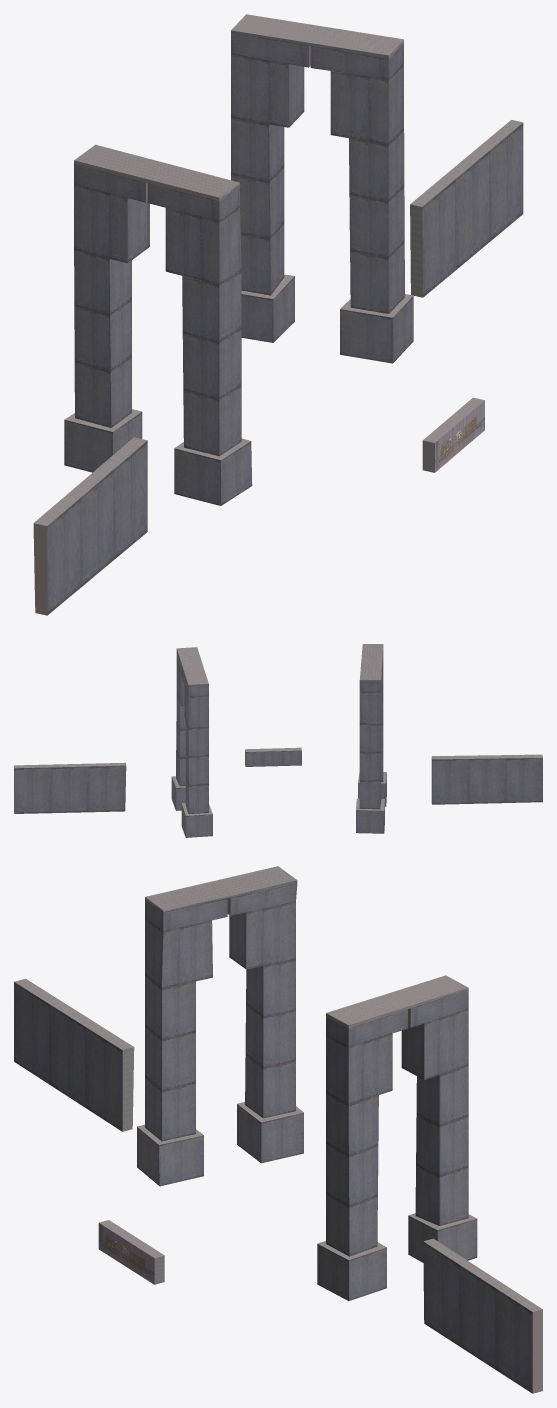
File: Main_Gate_Tool.obj
3 views of the same model, one above another, from view 1: azimuth 30°, elevation 25°; view 2: azimuth 150°, elevation 25°; view 3: azimuth 270°, elevation 25° (orthographic). The views are drawn at different scales.
Visible parts, largest first — view 1: Material__0, Material__1, Material__2_1; view 2: Material__0, Material__1; view 3: Material__0, Material__1, Material__2_1.
Part boxes in pixels (<box>): Material__0: <box>47,30,523,615</box>; Material__1: <box>33,14,522,615</box>; Material__2_1: <box>219,40,484,472</box>; Material__0: <box>14,647,542,837</box>; Material__1: <box>14,644,542,815</box>; Material__0: <box>14,880,532,1393</box>; Material__1: <box>14,866,542,1393</box>; Material__2_1: <box>98,882,348,1284</box>.
Size of the model in its own units: 47.56 by 17.99 by 31.54.
Materials: 3 (3 with a texture image).
